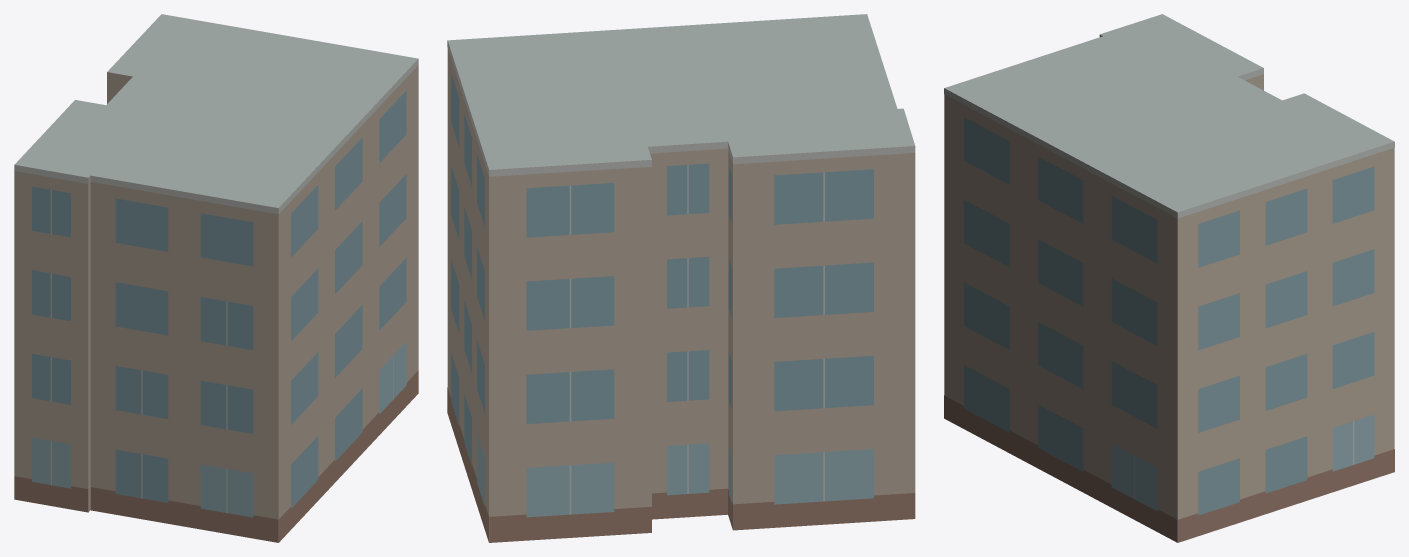
The model's file is survey-upis-32938009.glb.
3 views of the same model, side by side, from view 1: azimuth 30°, elevation 25°; view 2: azimuth 150°, elevation 25°; view 3: azimuth 270°, elevation 25° (orthographic). The views are drawn at different scales.
Parts seen in each view (by area): view 1: survey-upis-32938009.tmp; view 2: survey-upis-32938009.tmp; view 3: survey-upis-32938009.tmp.
Boxes of the visible parts, x1=… form: survey-upis-32938009.tmp: x1=14, y1=14, x2=418, y2=542; survey-upis-32938009.tmp: x1=447, y1=14, x2=915, y2=542; survey-upis-32938009.tmp: x1=944, y1=14, x2=1394, y2=542.
Bounding box in the file's own units: 17.01 × 13.2 × 16.32.
